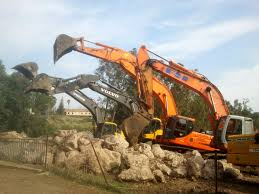excavator: (57, 31, 218, 155), (140, 44, 255, 160), (28, 73, 138, 113)
